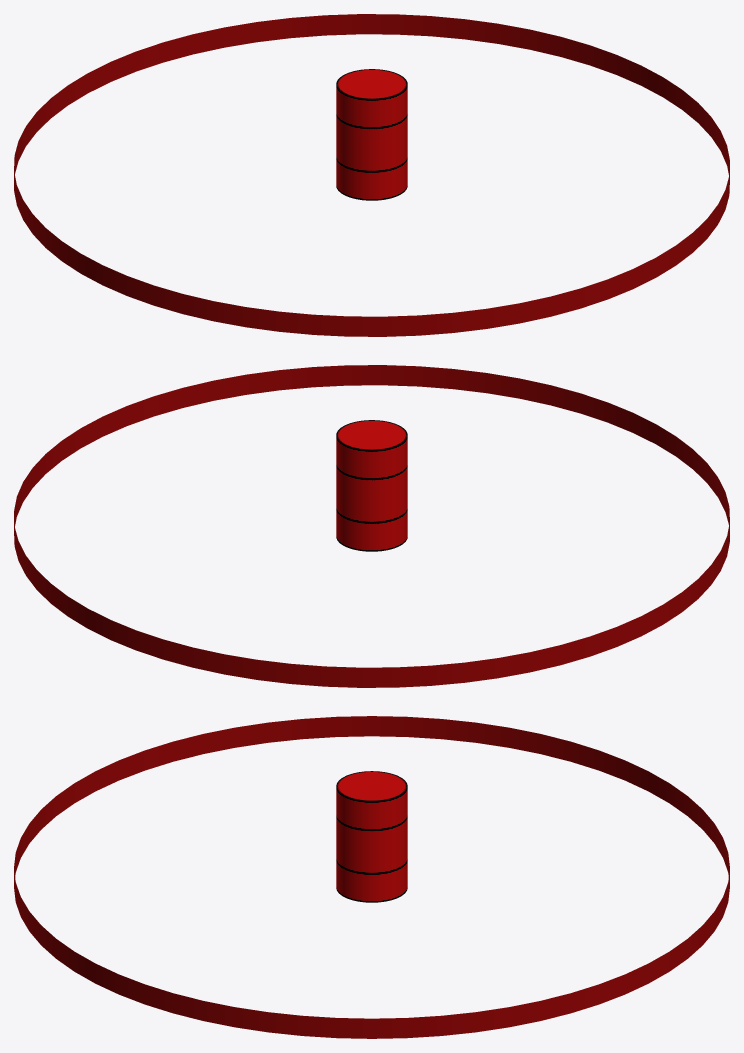
File: barrel_e_r4.obj
The picture shows the model from 3 angles, top to bottom: view 1: azimuth 30°, elevation 25°; view 2: azimuth 150°, elevation 25°; view 3: azimuth 270°, elevation 25°; orthographic projection.
Parts seen in each view (by area): view 1: barrel_e_r4; view 2: barrel_e_r4; view 3: barrel_e_r4.
Boxes of the visible parts, x1,y1,x2,y2 form: barrel_e_r4: (14,14,729,336); barrel_e_r4: (14,365,729,687); barrel_e_r4: (14,716,729,1038).
Size of the model in its own units: 8 by 1.25 by 8.
